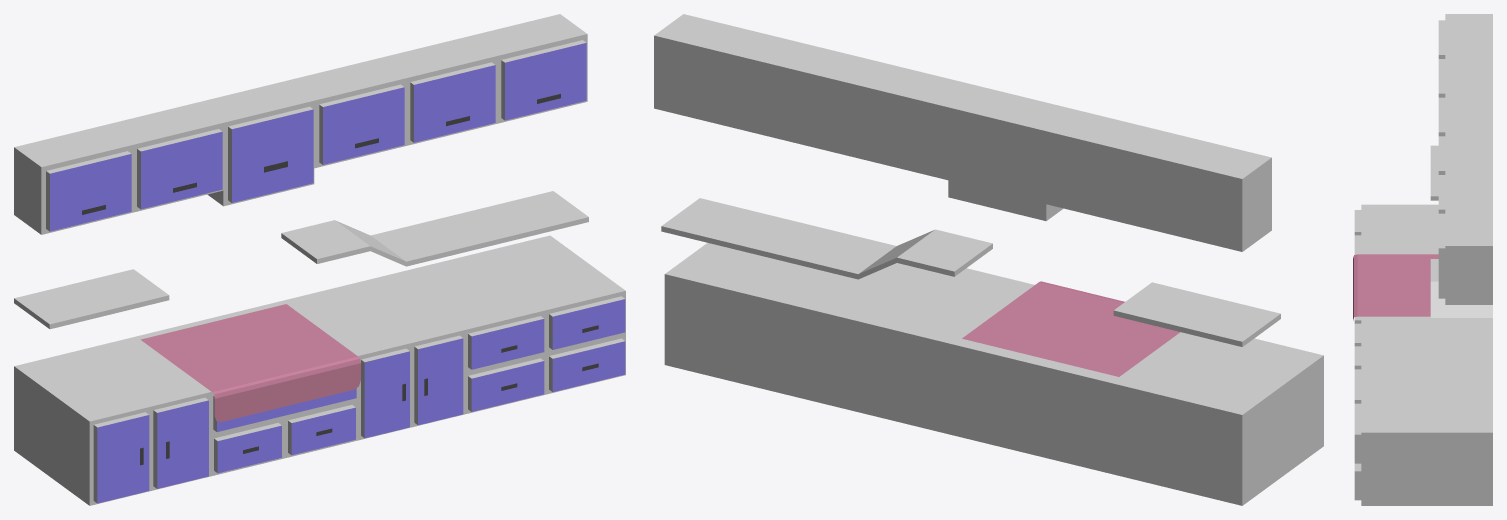
The model's file is Kitchen Cabinets.fbx.
3 renders of one model, left to right at view 1: azimuth 30°, elevation 25°; view 2: azimuth 150°, elevation 25°; view 3: azimuth 270°, elevation 25°, orthographic. The views are drawn at different scales.
Visible parts, largest first — view 1: Kitchen Cabinets; view 2: Kitchen Cabinets; view 3: Kitchen Cabinets.
Boxes of the visible parts, box(x1,y1,x2,y2) form: Kitchen Cabinets: box(14, 14, 625, 505); Kitchen Cabinets: box(654, 14, 1323, 505); Kitchen Cabinets: box(1353, 14, 1492, 505).
Size of the model in its own units: 531 by 282 by 136.
